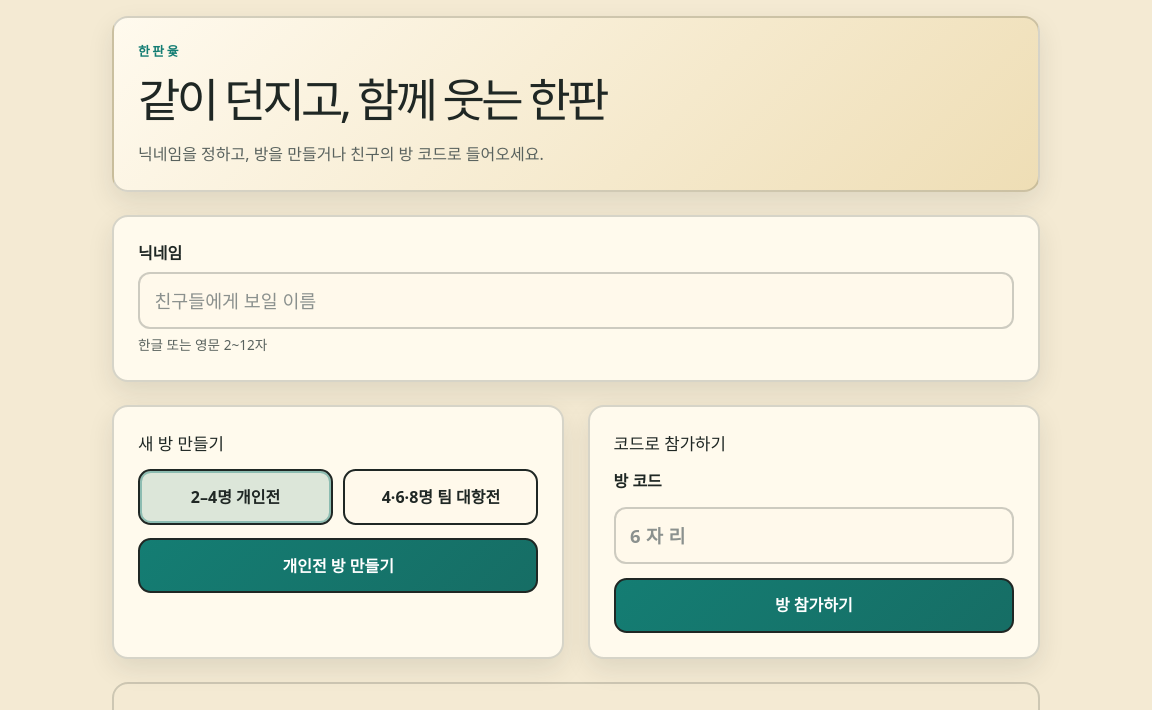
Test case: Lobby › shows a visible nickname error instead of creating a room without a valid guest name
This screenshot has width=1152, height=710.
Click the button "개인전 방 만들기": [338, 566] box x1=138 y1=538 x2=538 y2=594
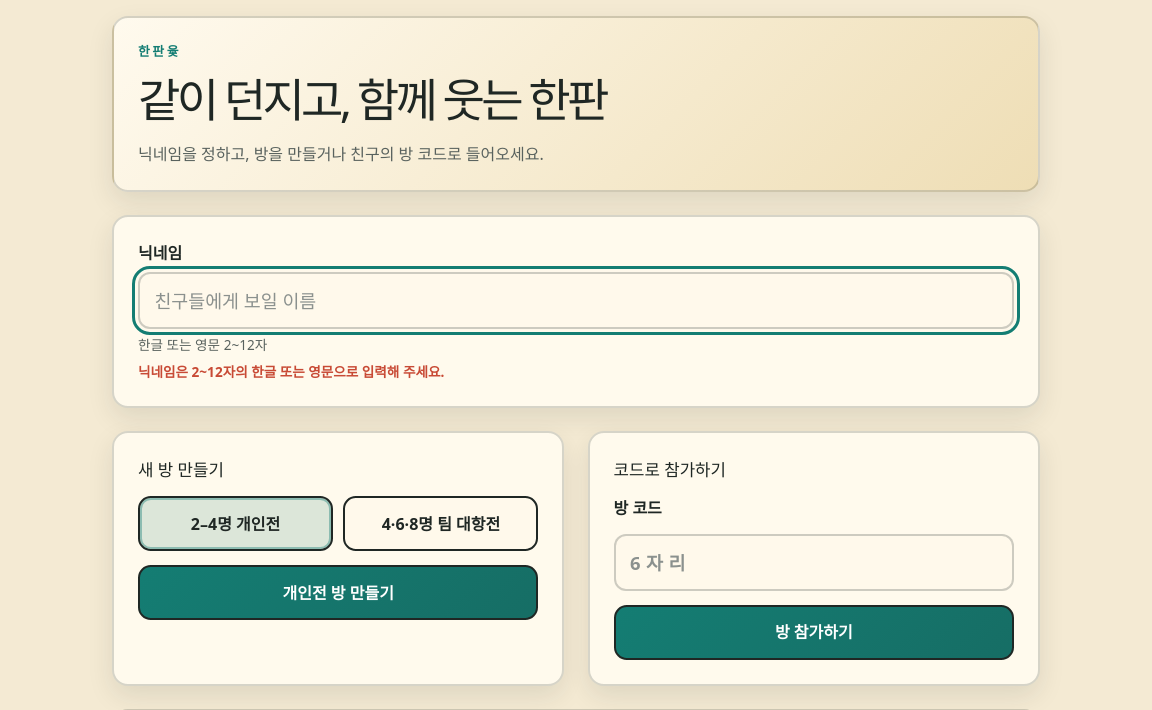
Expected: the message reads "닉네임은 2~12자의 한글 또는 영문으로 입력해 주세요.", x1=138 y1=362 x2=444 y2=381
